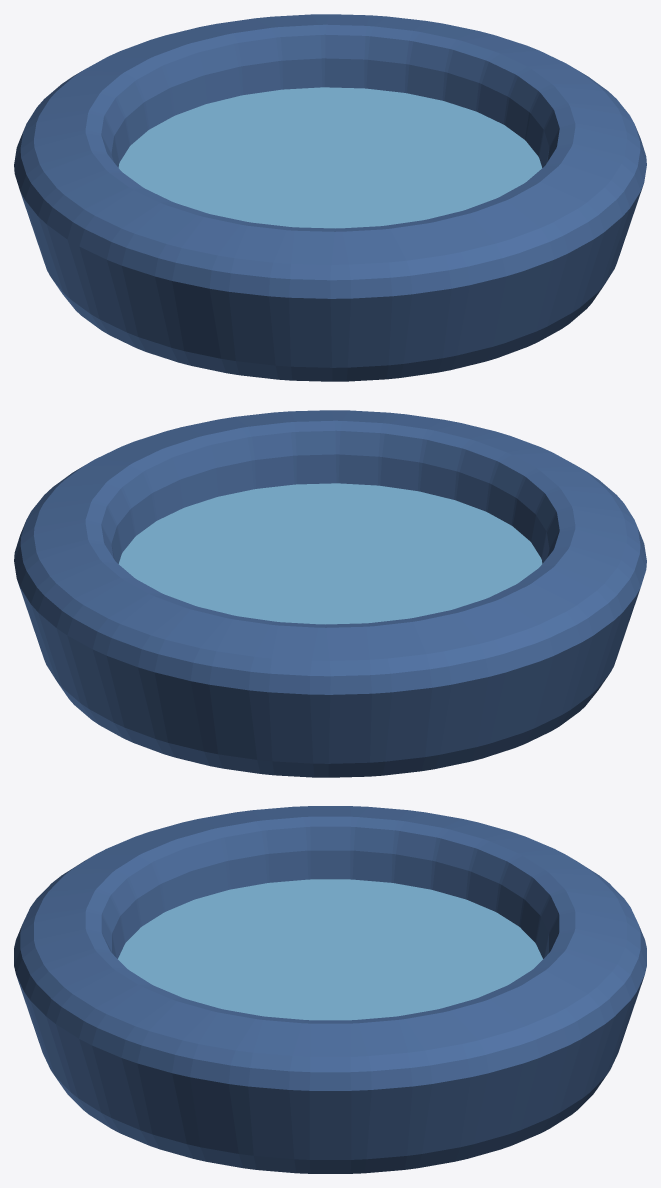
The model's file is dog_water_bowl_garden.fbx.
The picture shows the model from 3 angles, top to bottom: view 1: azimuth 30°, elevation 25°; view 2: azimuth 150°, elevation 25°; view 3: azimuth 270°, elevation 25°; orthographic projection.
Parts seen in each view (by area): view 1: dog_water_bowl_garden, Cube.104; view 2: dog_water_bowl_garden, Cube.104; view 3: dog_water_bowl_garden, Cube.104.
Boxes of the visible parts, x1=… form: dog_water_bowl_garden: x1=14, y1=14, x2=646, y2=381; Cube.104: x1=118, y1=87, x2=541, y2=228; dog_water_bowl_garden: x1=14, y1=410, x2=646, y2=777; Cube.104: x1=119, y1=483, x2=542, y2=624; dog_water_bowl_garden: x1=14, y1=806, x2=646, y2=1173; Cube.104: x1=118, y1=879, x2=542, y2=1020.
Size of the model in its own units: 39.3 by 9.69 by 39.3.
